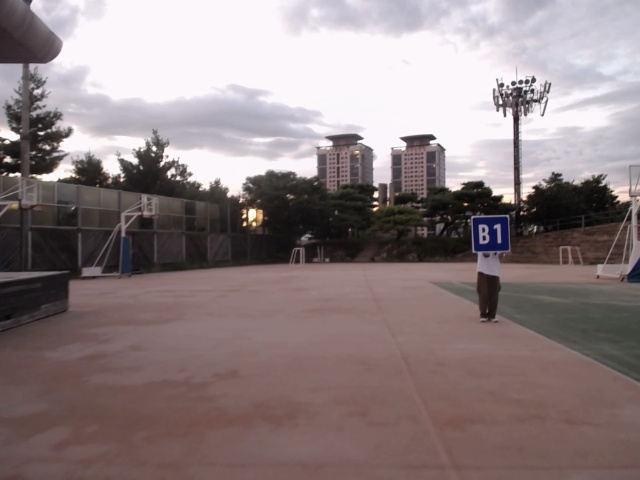delivery_b1: (472, 215, 510, 253)
